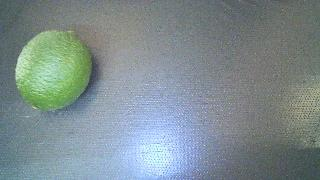EXPORTACION: (15, 30, 92, 111)
